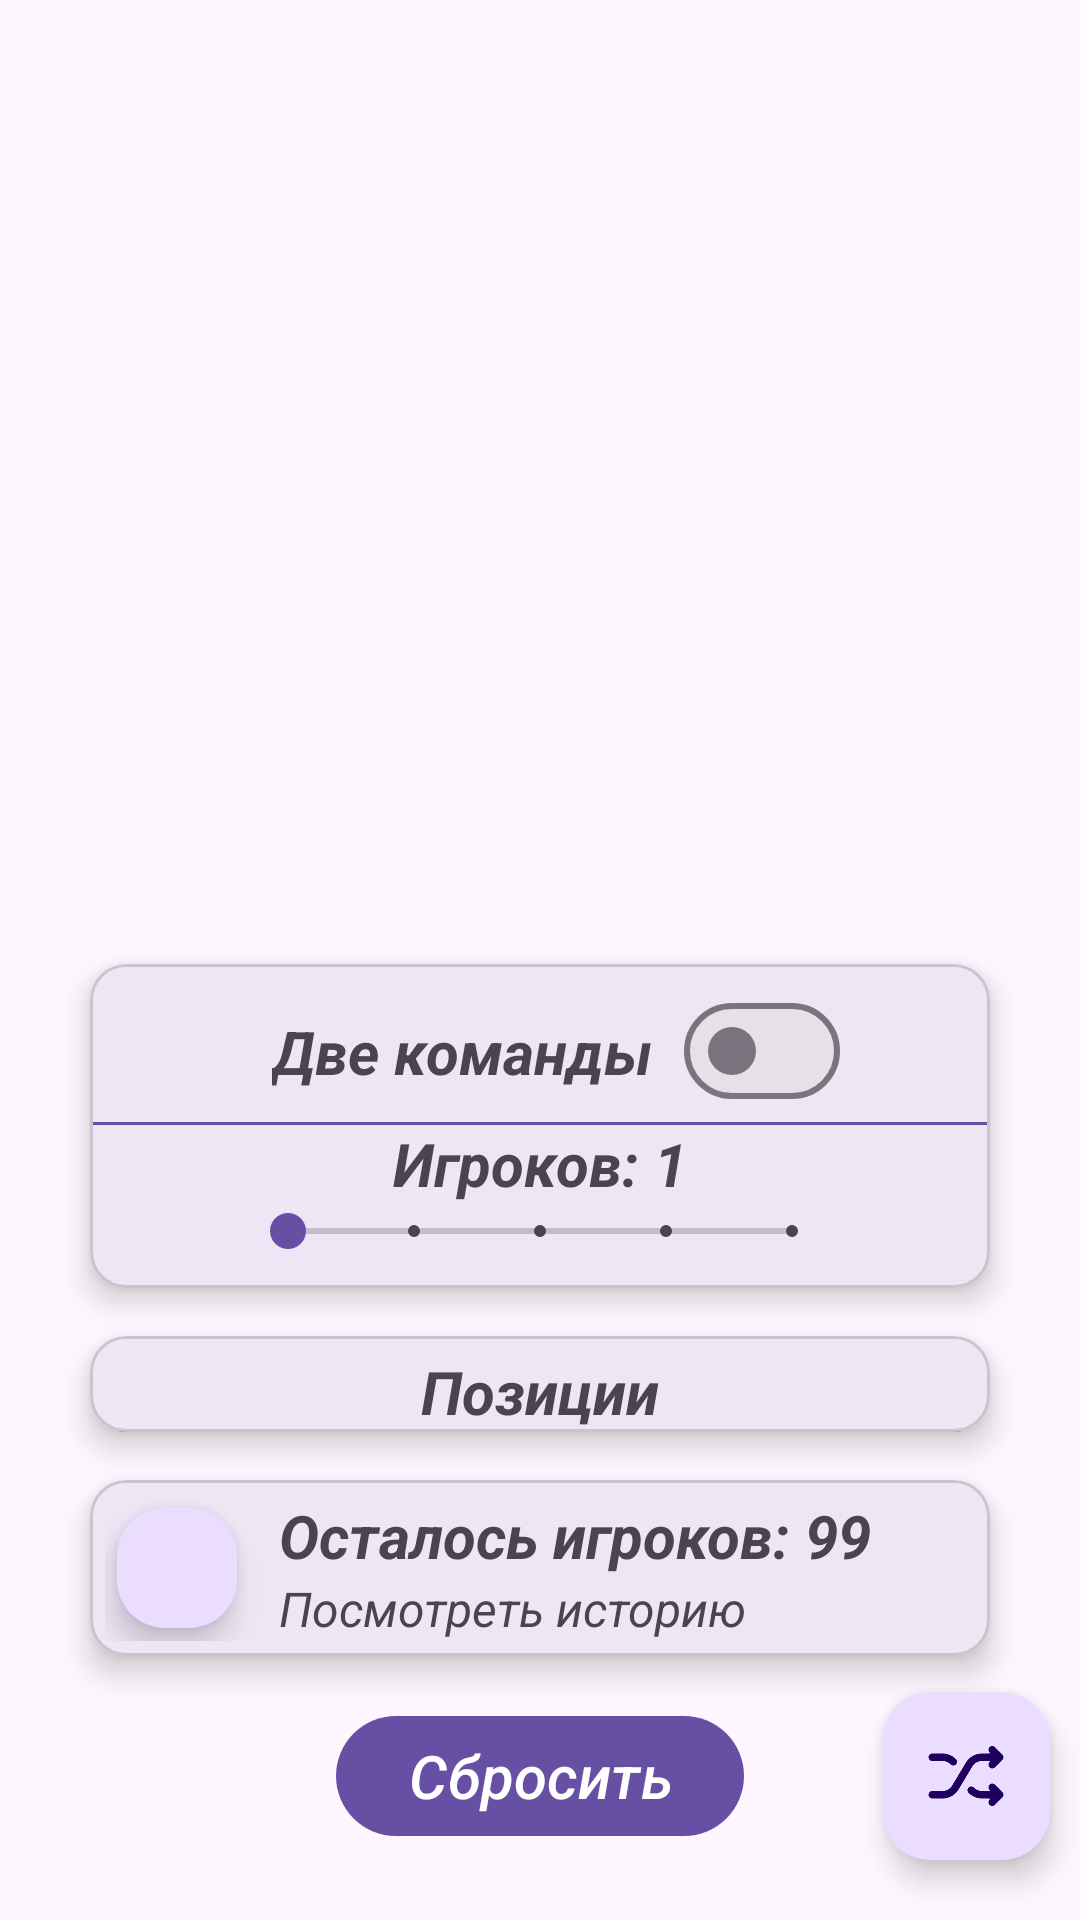

Locate icon controls on the screen. Image size 1080 x 1920, boxes as (x1, y1, x2, y2).
randomize: (882, 1692, 1050, 1860)
